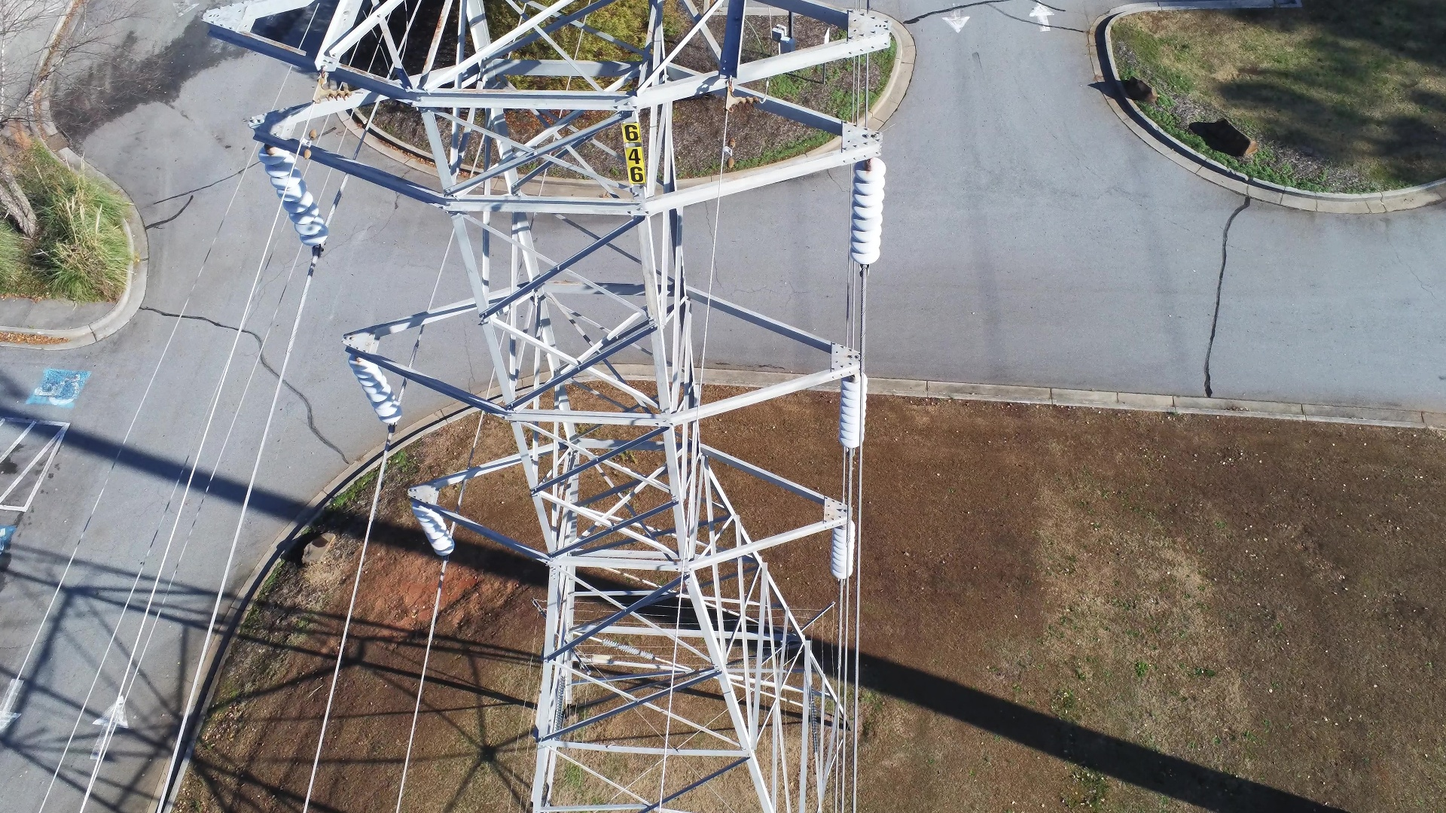insulator: (256, 143, 331, 249), (847, 157, 887, 268), (347, 352, 404, 427), (411, 501, 456, 558), (837, 371, 869, 451), (829, 519, 857, 580)
